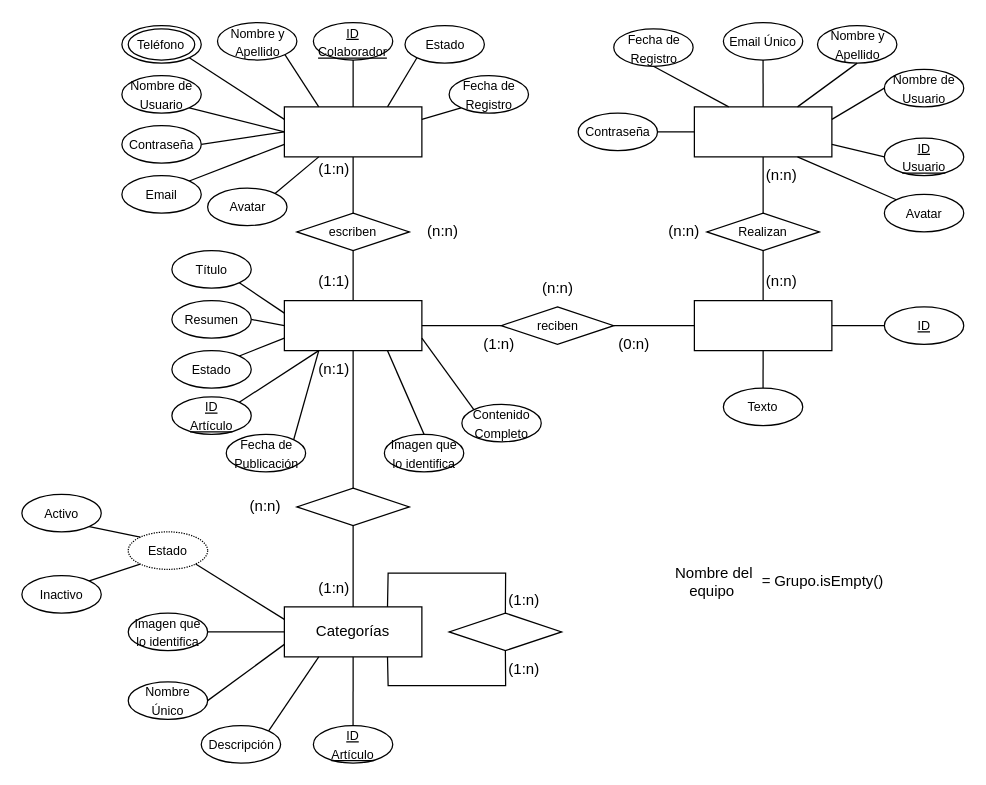
Some shapes in this 986 by 785 pixel diagram are drawn without their labels. Each missing label, with the centre of its shape:
Artículos: (352,325)
Colaboradores: (352,131)
Comentarios: (762,325)
puede contener otra: (505,631)
se agrupan en: (352,506)
Usuarios: (762,131)
